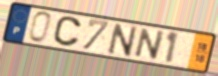0: (27, 10, 55, 44)
1: (164, 30, 180, 65)
7: (82, 18, 111, 52)
C: (51, 15, 83, 48)
N: (132, 27, 167, 61), (107, 21, 139, 58)
